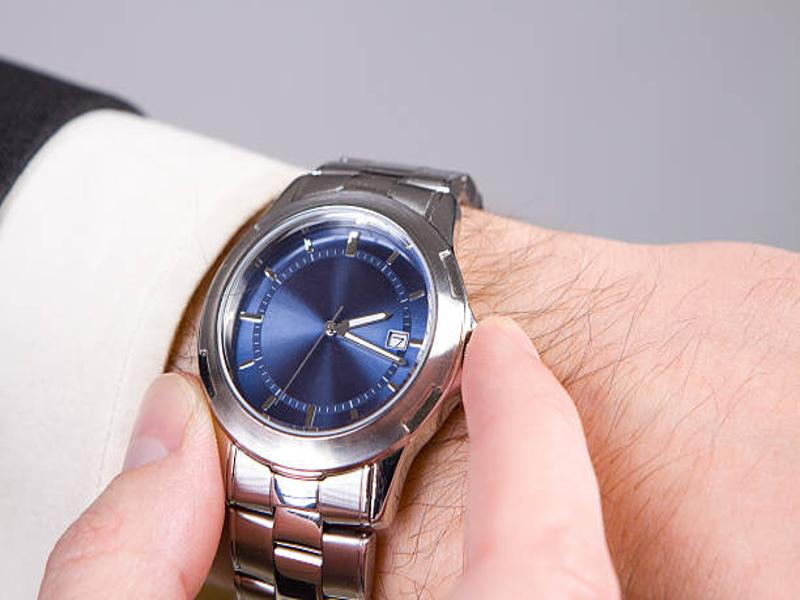watch: (200, 157, 486, 598)
